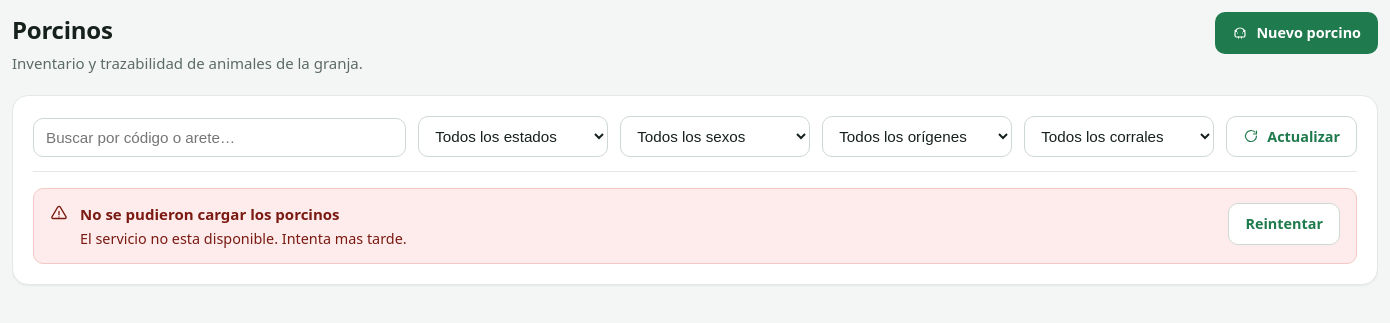
AnimalsPage: estados de carga y error › muestra el error 503 y permite reintentar
Expected: the text "No se pudieron cargar los porcinos" is shown, [80,204,340,224]
Expected: the text "El servicio no esta disponible. Intenta mas tarde." is shown, [80,229,407,248]
Click the button "Reintentar": point(1284, 224) [1228,203,1340,245]
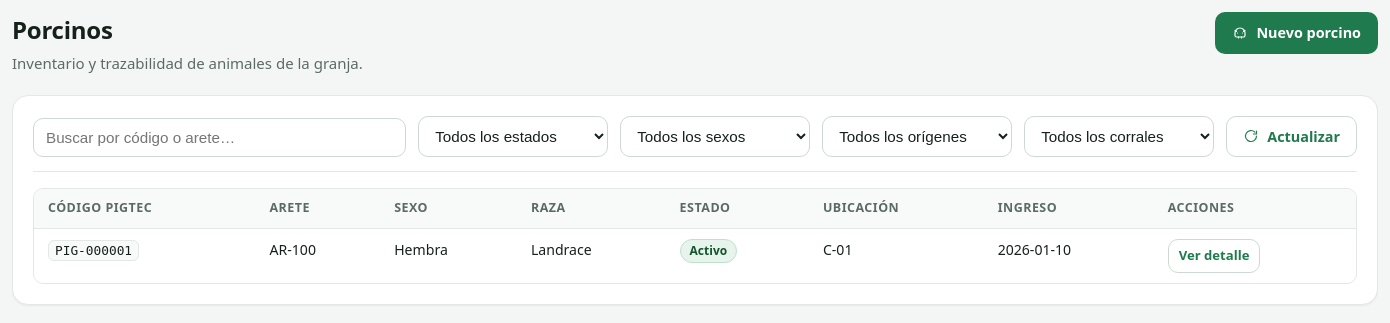
Expected: the text "PIG-000001" is shown, [48,240,139,261]
